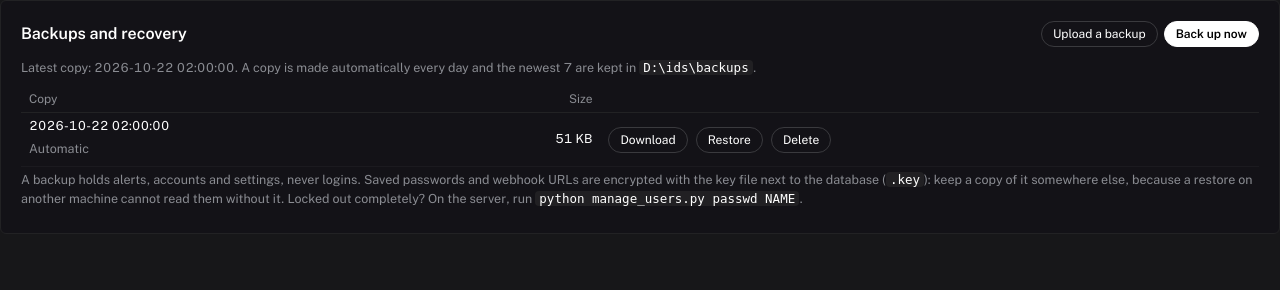
Test: backups and recovery › asks before replacing everything, and nothing happens if you cancel
Click the button "Restore" at (729, 140), box [696, 126, 763, 152]
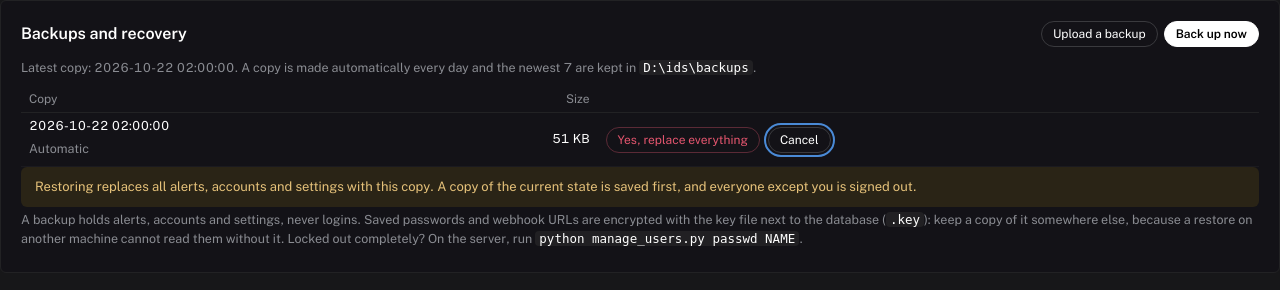
Now the text "replaces all alerts, accounts and settings" is shown, box [35, 179, 917, 194]
Click the button "Cancel" at (799, 140), box [768, 126, 831, 152]
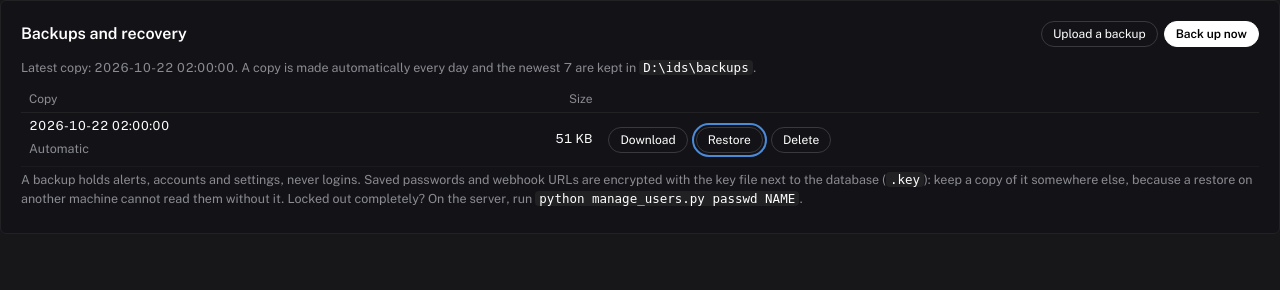
Now the text "replaces all alerts" is gone
